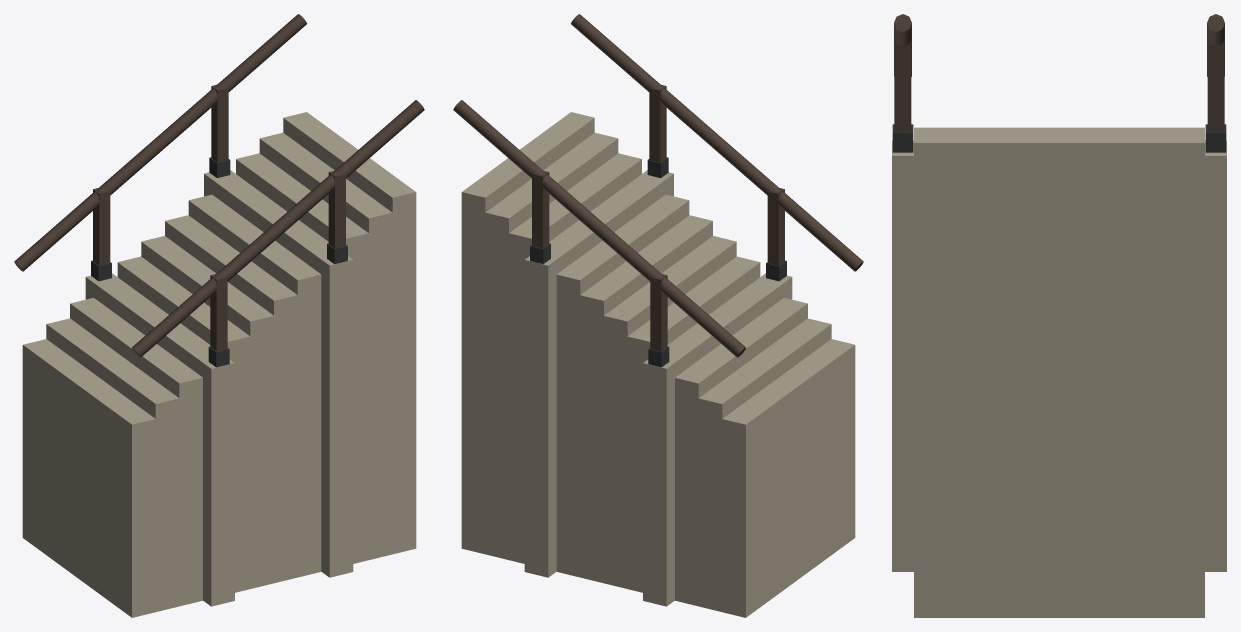
Rendered from siege-stair-flight-middle.glb.
3 views of the same model, side by side, from view 1: azimuth 30°, elevation 25°; view 2: azimuth 150°, elevation 25°; view 3: azimuth 270°, elevation 25° (orthographic). The views are drawn at different scales.
Visible parts, largest first — view 1: Mesh_Step13, Mesh_Step24, Mesh_Step23, Mesh_Step20, Mesh_Step19, Mesh_PostSupport_1_4, Mesh_Step18, Mesh_Step14, Mesh_Step15, Mesh_Step22, Mesh_PostSupport_1_3, Mesh_Step17 (+8 smaller); view 2: Mesh_Step13, Mesh_Step24, Mesh_Step23, Mesh_Step20, Mesh_Step19, Mesh_PostSupport_-1_4, Mesh_Step18, Mesh_Step14, Mesh_Step15, Mesh_Step22, Mesh_PostSupport_-1_3, Mesh_Step17 (+8 smaller); view 3: Mesh_Step24, Mesh_PostSupport_-1_4, Mesh_PostSupport_1_4, Mesh_Post_-1_4, Mesh_Post_1_4, Mesh_AscendingHandrail_-1, Mesh_AscendingHandrail_1, Mesh_PostShoe_-1_4, Mesh_PostShoe_1_4.
Part boxes in pixels (x1=…): Mesh_Step13: x1=22, y1=339, x2=155, y2=617; Mesh_Step24: x1=283, y1=112, x2=416, y2=554; Mesh_Step23: x1=259, y1=132, x2=392, y2=559; Mesh_Step20: x1=188, y1=194, x2=321, y2=577; Mesh_Step19: x1=165, y1=215, x2=297, y2=583; Mesh_PostSupport_1_4: x1=321, y1=256, x2=353, y2=577; Mesh_Step18: x1=141, y1=236, x2=273, y2=588; Mesh_Step14: x1=46, y1=318, x2=179, y2=611; Mesh_Step15: x1=70, y1=297, x2=202, y2=606; Mesh_Step22: x1=236, y1=153, x2=368, y2=563; Mesh_PostSupport_1_3: x1=203, y1=359, x2=234, y2=606; Mesh_Step17: x1=117, y1=256, x2=250, y2=592; Mesh_Step13: x1=722, y1=339, x2=855, y2=617; Mesh_Step24: x1=461, y1=112, x2=594, y2=554; Mesh_Step23: x1=485, y1=132, x2=618, y2=559; Mesh_Step20: x1=556, y1=194, x2=689, y2=577; Mesh_Step19: x1=580, y1=215, x2=712, y2=583; Mesh_PostSupport_-1_4: x1=524, y1=256, x2=556, y2=577; Mesh_Step18: x1=604, y1=236, x2=736, y2=588; Mesh_Step14: x1=698, y1=318, x2=831, y2=611; Mesh_Step15: x1=675, y1=297, x2=807, y2=606; Mesh_Step22: x1=509, y1=153, x2=641, y2=563; Mesh_PostSupport_-1_3: x1=643, y1=359, x2=674, y2=606; Mesh_Step17: x1=627, y1=256, x2=760, y2=592; Mesh_Step24: x1=914, y1=127, x2=1204, y2=617; Mesh_PostSupport_-1_4: x1=1205, y1=140, x2=1226, y2=571; Mesh_PostSupport_1_4: x1=892, y1=140, x2=913, y2=571; Mesh_Post_-1_4: x1=1207, y1=39, x2=1224, y2=132; Mesh_Post_1_4: x1=894, y1=39, x2=911, y2=132; Mesh_AscendingHandrail_-1: x1=1207, y1=14, x2=1224, y2=76; Mesh_AscendingHandrail_1: x1=894, y1=14, x2=911, y2=76; Mesh_PostShoe_-1_4: x1=1205, y1=124, x2=1226, y2=152; Mesh_PostShoe_1_4: x1=892, y1=124, x2=913, y2=152.
Size of the model in its own units: 3.68 by 5.47 by 2.76.
